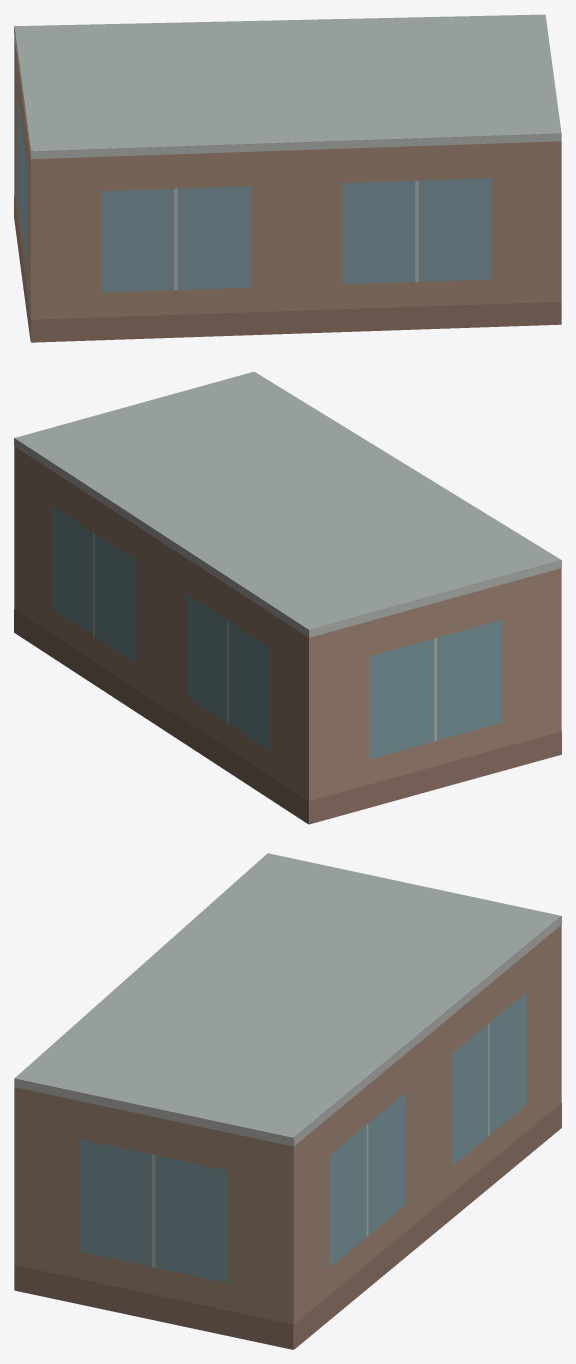
The model's file is survey-upis-32818848.glb.
3 renders of one model, top to bottom at view 1: azimuth 30°, elevation 25°; view 2: azimuth 150°, elevation 25°; view 3: azimuth 270°, elevation 25°, orthographic. The views are drawn at different scales.
Visible parts, largest first — view 1: survey-upis-32818848.tmp; view 2: survey-upis-32818848.tmp; view 3: survey-upis-32818848.tmp.
Boxes of the visible parts, <box> form: survey-upis-32818848.tmp: <box>14,14,561,342</box>; survey-upis-32818848.tmp: <box>14,371,561,824</box>; survey-upis-32818848.tmp: <box>14,853,561,1349</box>.
Bounding box in the file's own units: 8.8 × 3.05 × 7.15.
